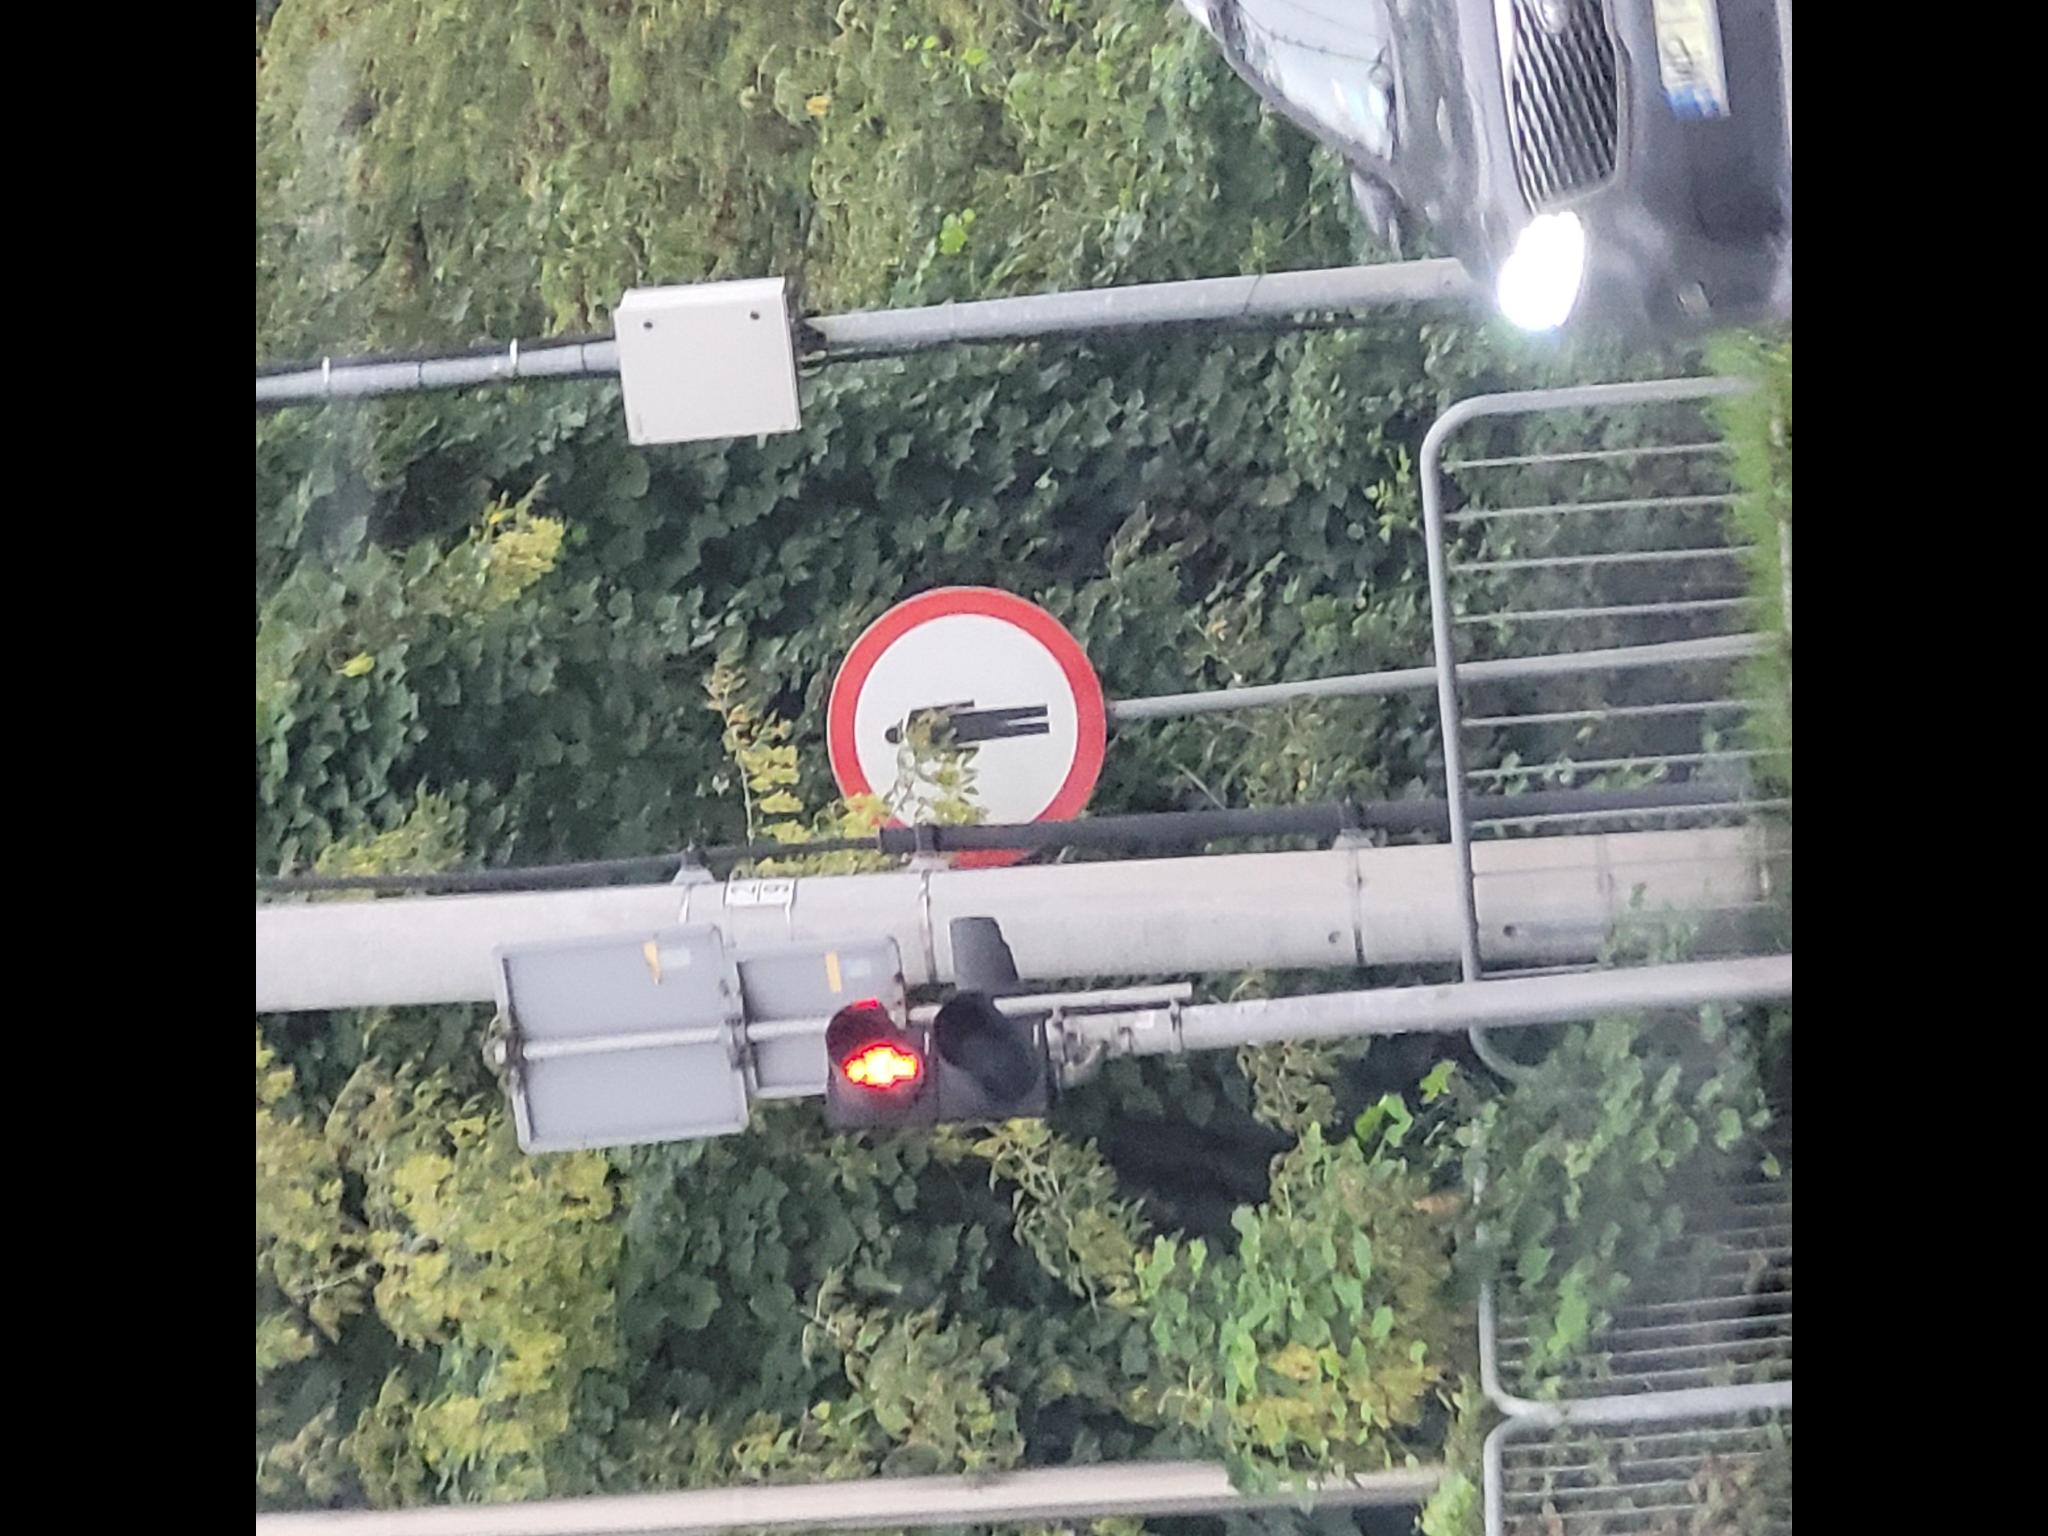prohibitory: (814, 573, 1118, 874)
